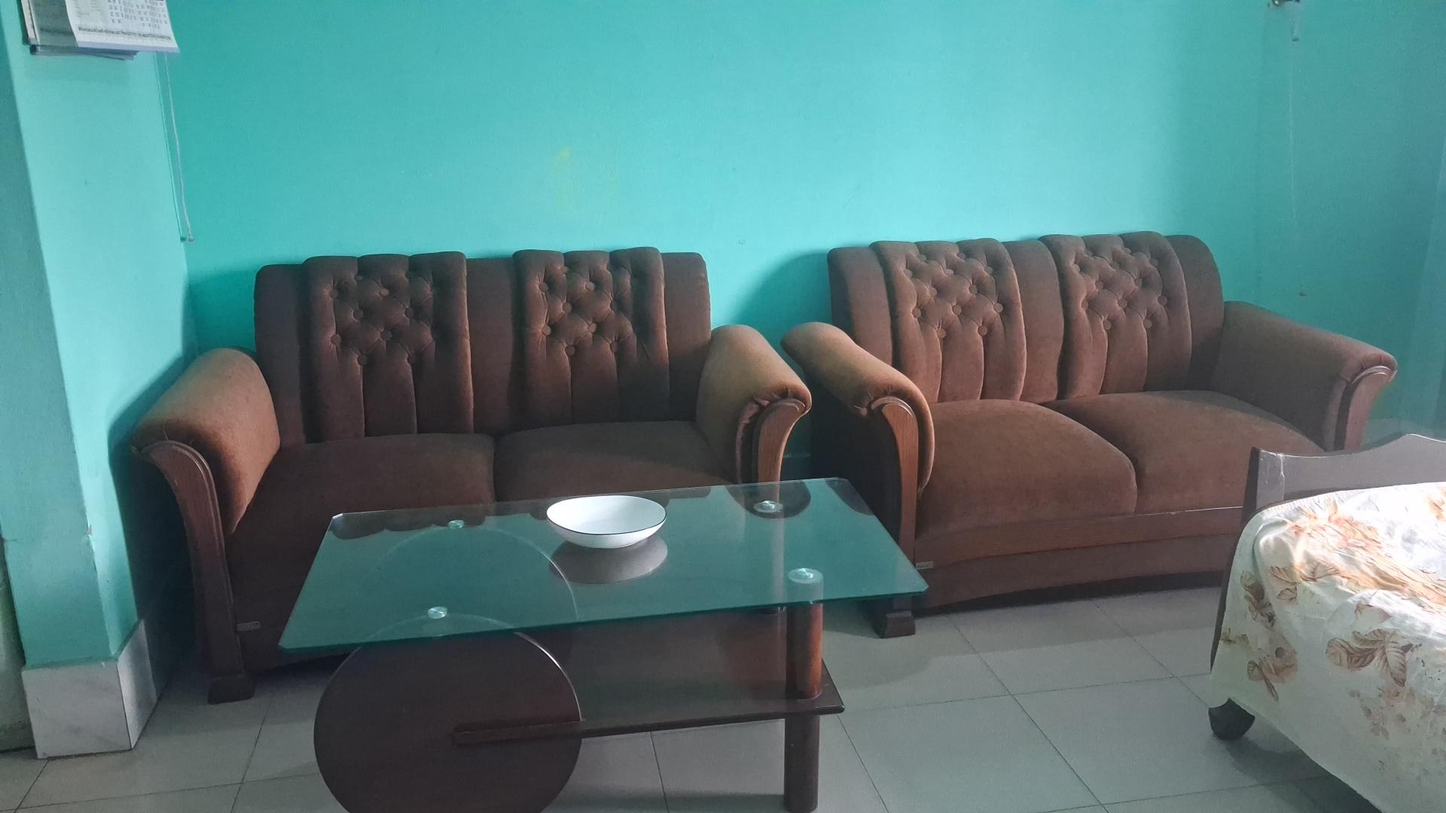Bowl: (543, 493, 671, 550)
